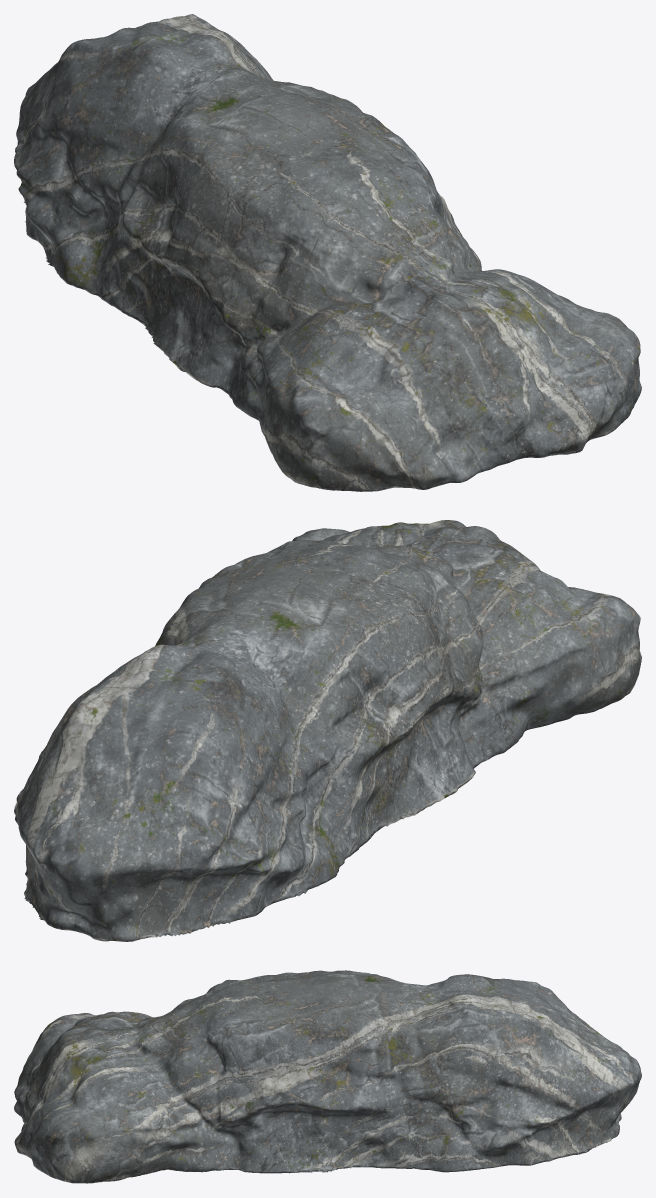
The model's file is SM_Cliff_01.fbx.
The picture shows the model from 3 angles, top to bottom: view 1: azimuth 30°, elevation 25°; view 2: azimuth 150°, elevation 25°; view 3: azimuth 270°, elevation 25°; orthographic projection. The views are drawn at different scales.
Parts seen in each view (by area): view 1: SM_Cliff_01_LOD0; view 2: SM_Cliff_01_LOD0; view 3: SM_Cliff_01_LOD0.
Boxes of the visible parts, x1,y1,x2,y2 form: SM_Cliff_01_LOD0: (14, 14, 641, 491); SM_Cliff_01_LOD0: (14, 520, 641, 941); SM_Cliff_01_LOD0: (14, 970, 641, 1183).
Bounding box in the file's own units: 828 × 1811 × 450.
1 material, 1 textured.
